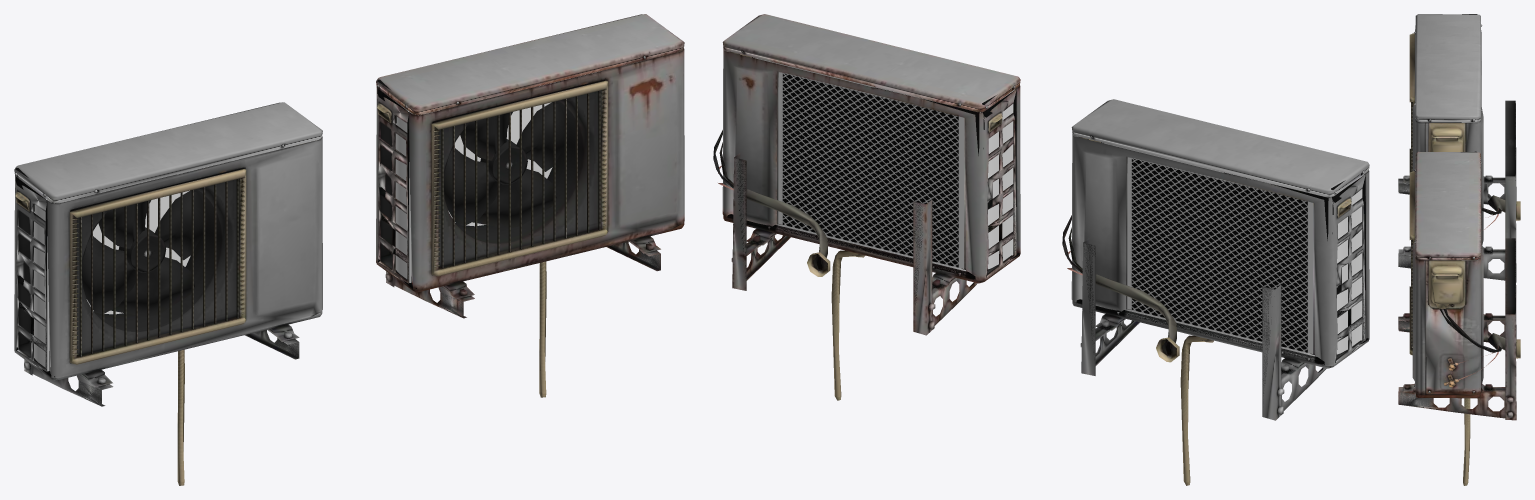
The model's file is exterior_aircon_unit.gltf.
3 renders of one model, left to right at view 1: azimuth 30°, elevation 25°; view 2: azimuth 150°, elevation 25°; view 3: azimuth 270°, elevation 25°, orthographic. The views are drawn at different scales.
Parts seen in each view (by area): view 1: exterior_aircon_unit_rusted, exterior_aircon_unit; view 2: exterior_aircon_unit_rusted, exterior_aircon_unit; view 3: exterior_aircon_unit_rusted, exterior_aircon_unit.
Part boxes in pixels (x1=…): exterior_aircon_unit_rusted: x1=376, y1=14, x2=684, y2=397; exterior_aircon_unit: x1=14, y1=102, x2=322, y2=485; exterior_aircon_unit_rusted: x1=713, y1=14, x2=1020, y2=400; exterior_aircon_unit: x1=1062, y1=99, x2=1369, y2=485; exterior_aircon_unit_rusted: x1=1398, y1=151, x2=1520, y2=485; exterior_aircon_unit: x1=1398, y1=14, x2=1520, y2=282.
Bounding box in the file's own units: 1.8 × 0.9279 × 0.3741.
Materials: 4 (4 with a texture image).
